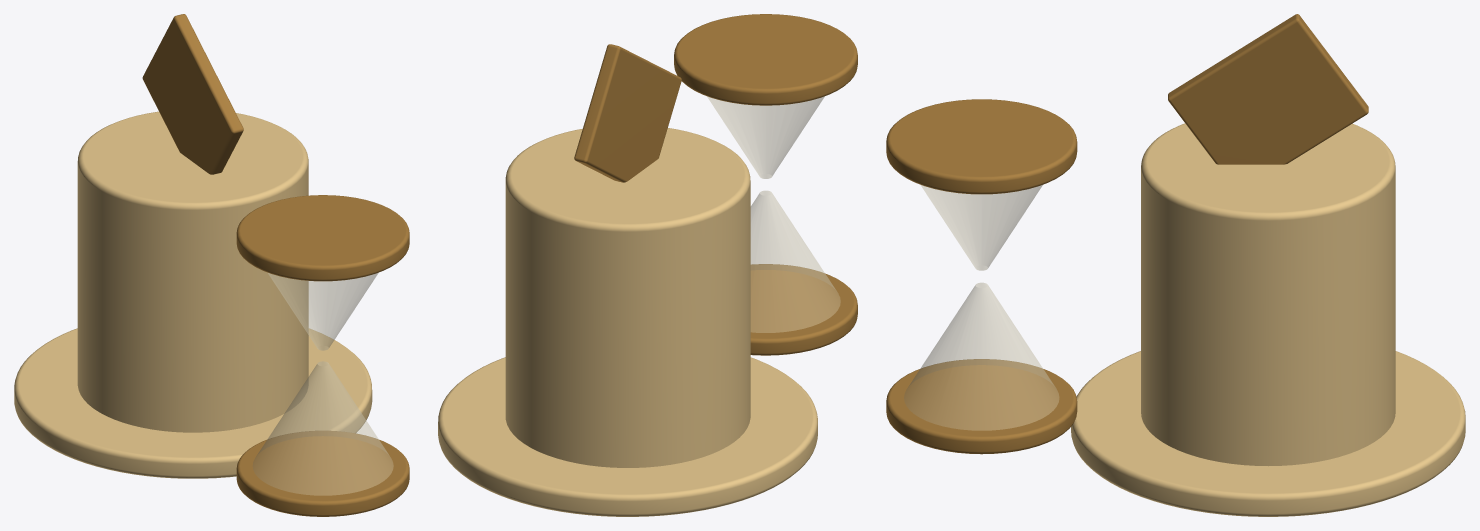
File: theme_10.glb
3 views of the same model, side by side, from view 1: azimuth 30°, elevation 25°; view 2: azimuth 150°, elevation 25°; view 3: azimuth 270°, elevation 25° (orthographic). The views are drawn at different scales.
Parts seen in each view (by area): view 1: theme_10; view 2: theme_10; view 3: theme_10.
Part boxes in pixels (x1,y1,x2,y2): theme_10: (14, 14, 409, 516); theme_10: (438, 14, 857, 516); theme_10: (886, 14, 1465, 516).
Bounding box in the file's own units: 1.24 × 1.45 × 1.82.
